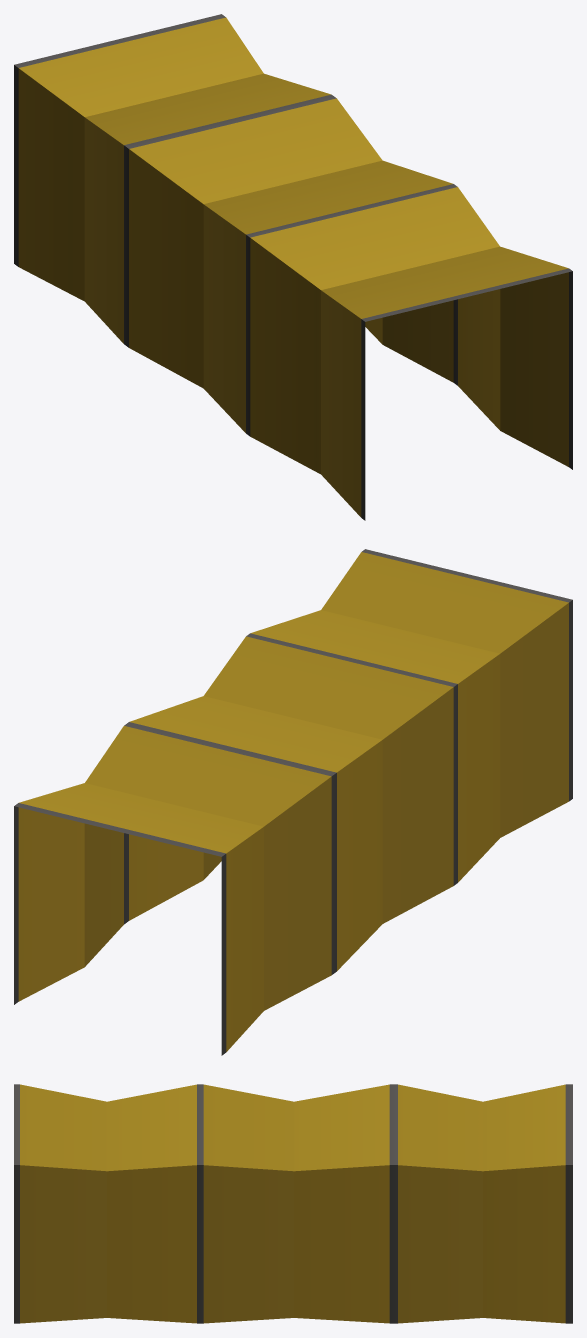
File: SA_Prop_BioTube_01.glb
3 views of the same model, one above another, from view 1: azimuth 30°, elevation 25°; view 2: azimuth 150°, elevation 25°; view 3: azimuth 270°, elevation 25° (orthographic). The views are drawn at different scales.
Visible parts, largest first — view 1: SA_Prop_BioTube_01; view 2: SA_Prop_BioTube_01; view 3: SA_Prop_BioTube_01.
Part boxes in pixels (x1,y1,x2,y2): SA_Prop_BioTube_01: (14, 14, 572, 520); SA_Prop_BioTube_01: (14, 549, 572, 1055); SA_Prop_BioTube_01: (14, 1084, 572, 1323).
Size of the model in its own units: 1.8 by 1.65 by 5.26.
1 material, 1 textured.
